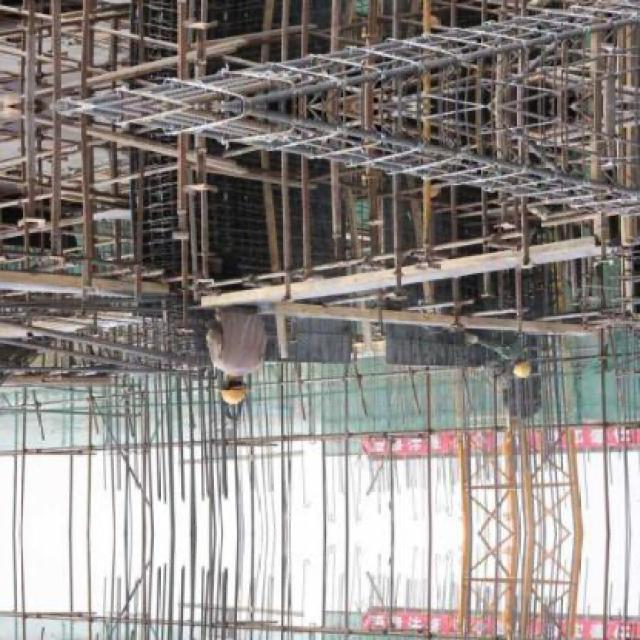con casco: (191, 353, 276, 418)
